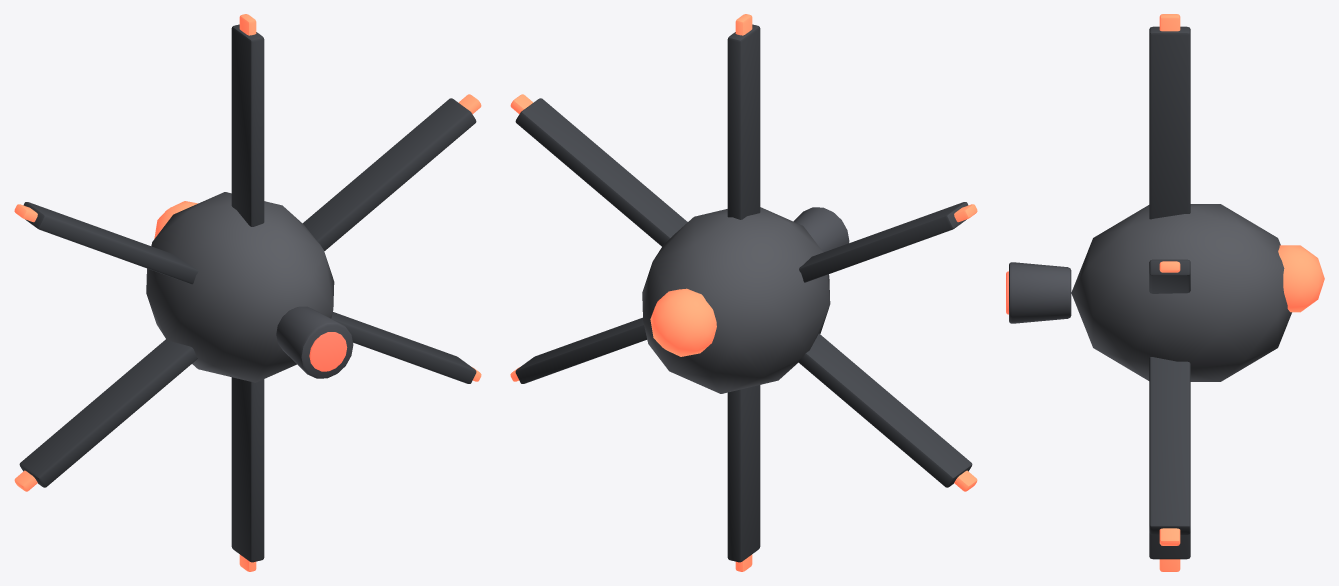
File: enemy_widow.glb
3 views of the same model, side by side, from view 1: azimuth 30°, elevation 25°; view 2: azimuth 150°, elevation 25°; view 3: azimuth 270°, elevation 25° (orthographic).
Parts seen in each view (by area): view 1: EnemyWidow; view 2: EnemyWidow; view 3: EnemyWidow.
Boxes of the visible parts, x1,y1,x2,y2 form: EnemyWidow: [14, 14, 481, 571]; EnemyWidow: [510, 14, 977, 571]; EnemyWidow: [1006, 14, 1324, 571].
Size of the model in its own units: 5.14 by 5.9 by 3.07.
